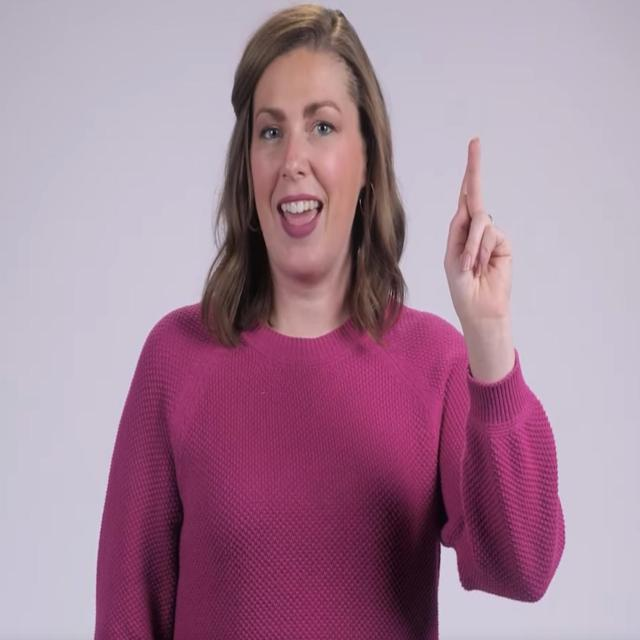R: (443, 135, 516, 327)
